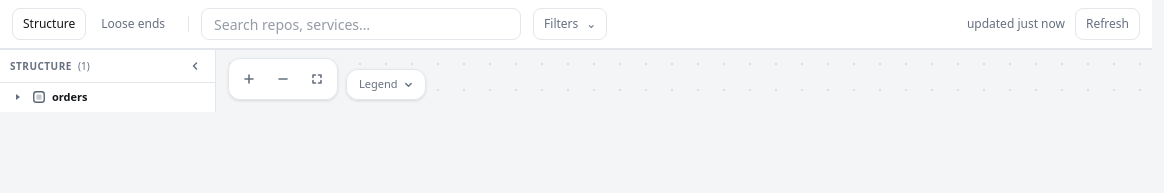
MapExplorer — code layer › does not ask twice for what it already has
Click the button named "Expand orders": click(18, 97) x1=10 y1=89 x2=26 y2=105
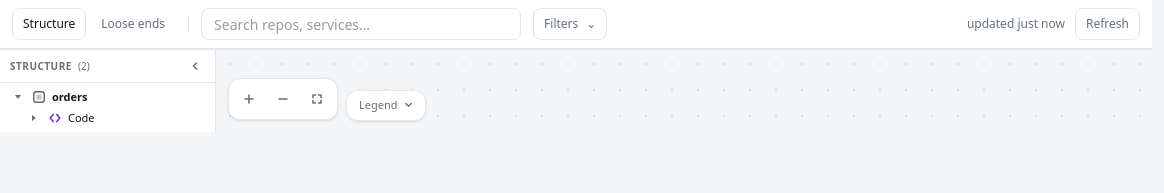
Click the button named "Expand Code": click(34, 118) x1=26 y1=110 x2=42 y2=126
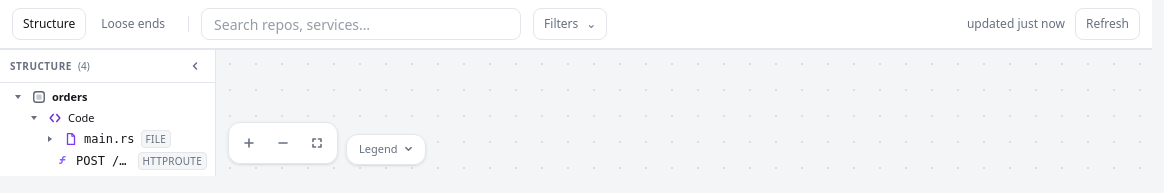
Check: the text "main.rs" is shown, box x1=84 y1=130 x2=135 y2=148
Click the button named "Collapse Code": click(34, 118) x1=26 y1=110 x2=42 y2=126
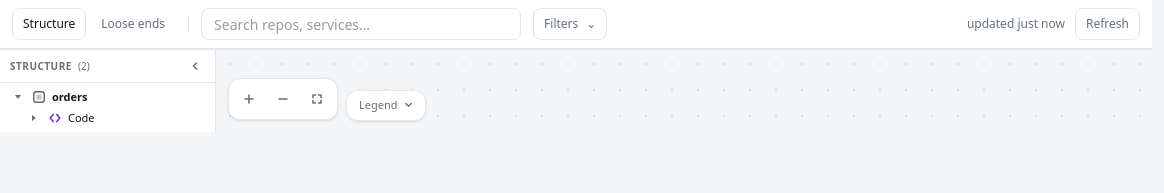
Click the button named "Expand Code": click(34, 118) x1=26 y1=110 x2=42 y2=126
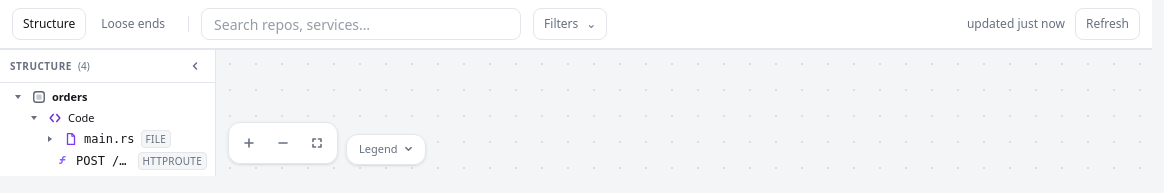
Check: the text "main.rs" is shown, box x1=84 y1=130 x2=135 y2=148
